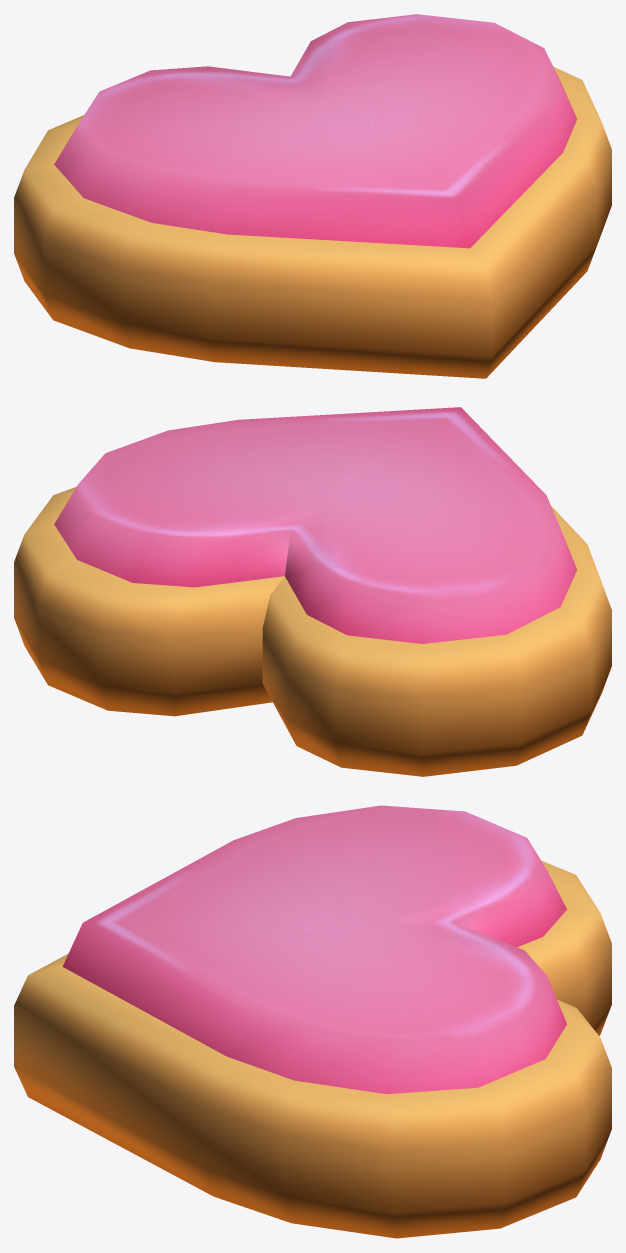
The model's file is 009-Cookies03.FBX.
The picture shows the model from 3 angles, top to bottom: view 1: azimuth 30°, elevation 25°; view 2: azimuth 150°, elevation 25°; view 3: azimuth 270°, elevation 25°; orthographic projection. The views are drawn at different scales.
Parts seen in each view (by area): view 1: 009-Cookies03; view 2: 009-Cookies03; view 3: 009-Cookies03.
Part boxes in pixels (left/top/right/bottom): 009-Cookies03: left=14, top=14, right=611, bottom=378; 009-Cookies03: left=14, top=407, right=611, bottom=776; 009-Cookies03: left=14, top=805, right=611, bottom=1238.
Bounding box in the file's own units: 12.34 × 3.43 × 10.66.
